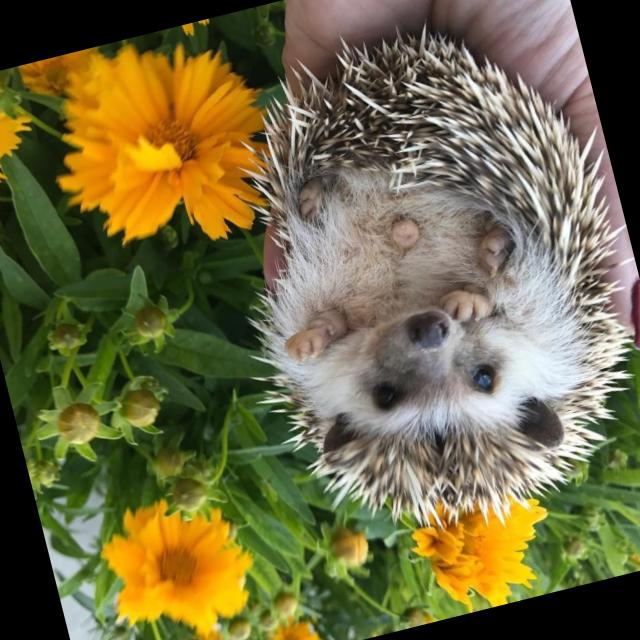Hedgehog: (174, 0, 640, 559)
